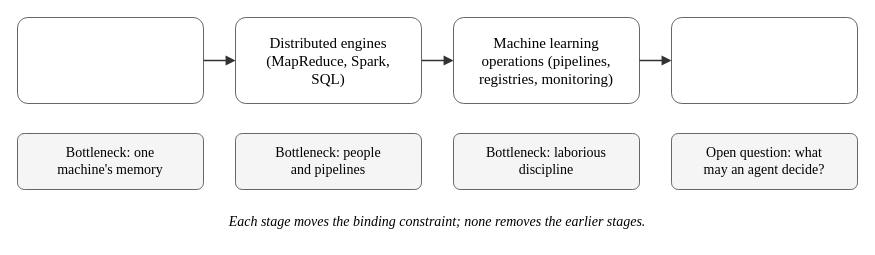
Some shapes in this 875 by 255 pixel diagram are drawn without their labels. Here are the shapes that lost their labels. From the top down, the centre of each, then its label:
the point at 110,60: Single-machine scientific stack (Python, NumPy, SciPy)
the point at 764,60: Governed agentic data science (agents propose, rules decide)
